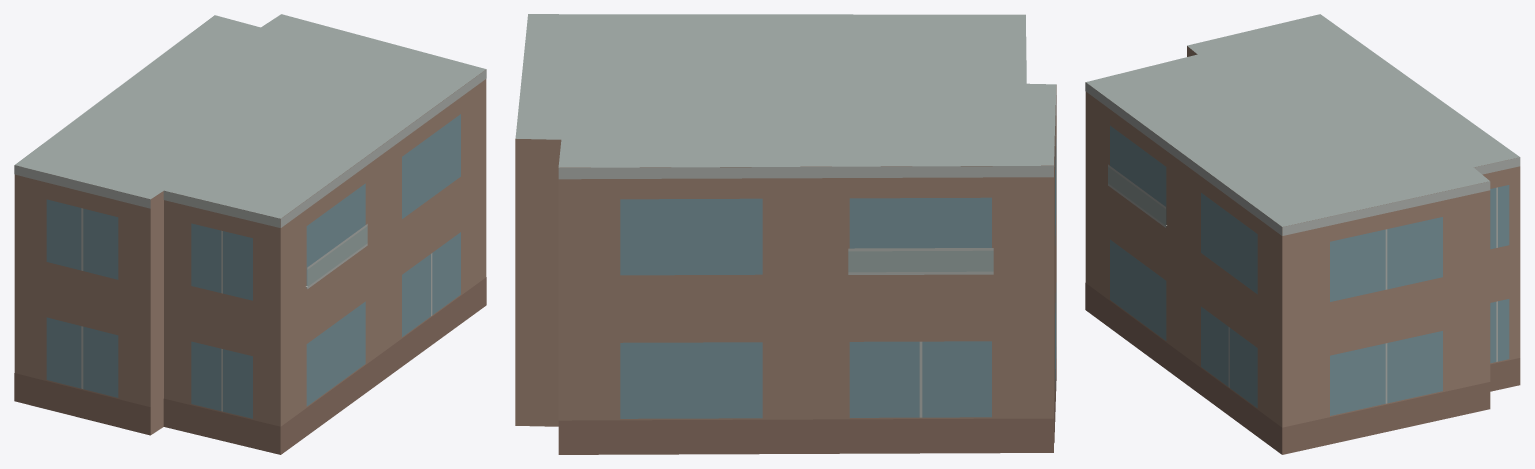
File: survey-upis-32655143.glb
The picture shows the model from 3 angles, left to right: view 1: azimuth 30°, elevation 25°; view 2: azimuth 150°, elevation 25°; view 3: azimuth 270°, elevation 25°; orthographic projection. The views are drawn at different scales.
Visible parts, largest first — view 1: survey-upis-32655143.tmp; view 2: survey-upis-32655143.tmp; view 3: survey-upis-32655143.tmp.
Part boxes in pixels (bbox=[...]): survey-upis-32655143.tmp: bbox=[14, 14, 486, 454]; survey-upis-32655143.tmp: bbox=[515, 14, 1056, 454]; survey-upis-32655143.tmp: bbox=[1085, 14, 1520, 454].
Bounding box in the file's own units: 12.24 × 6.1 × 10.56.
